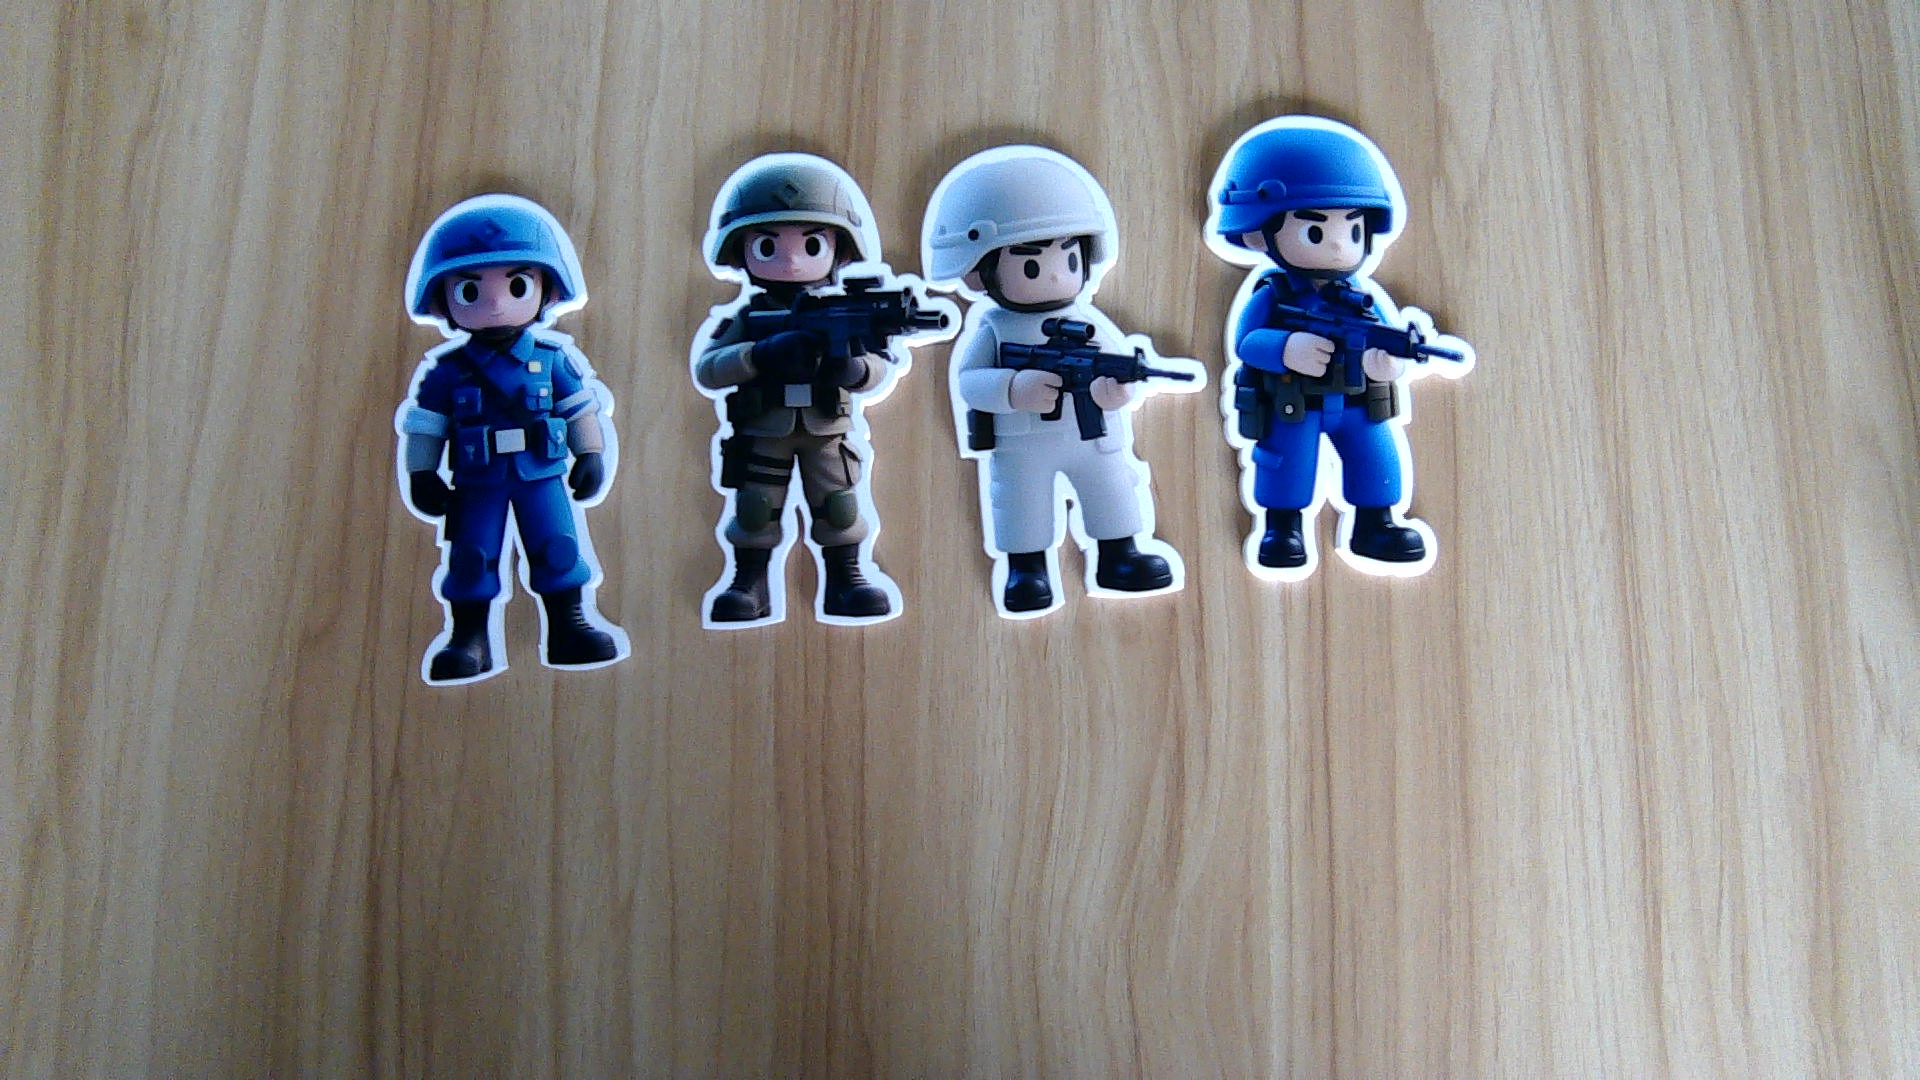人质: (947, 306, 1203, 618)
友军: (686, 291, 942, 630)
敌人2: (389, 334, 632, 690), (1208, 276, 1481, 585)
